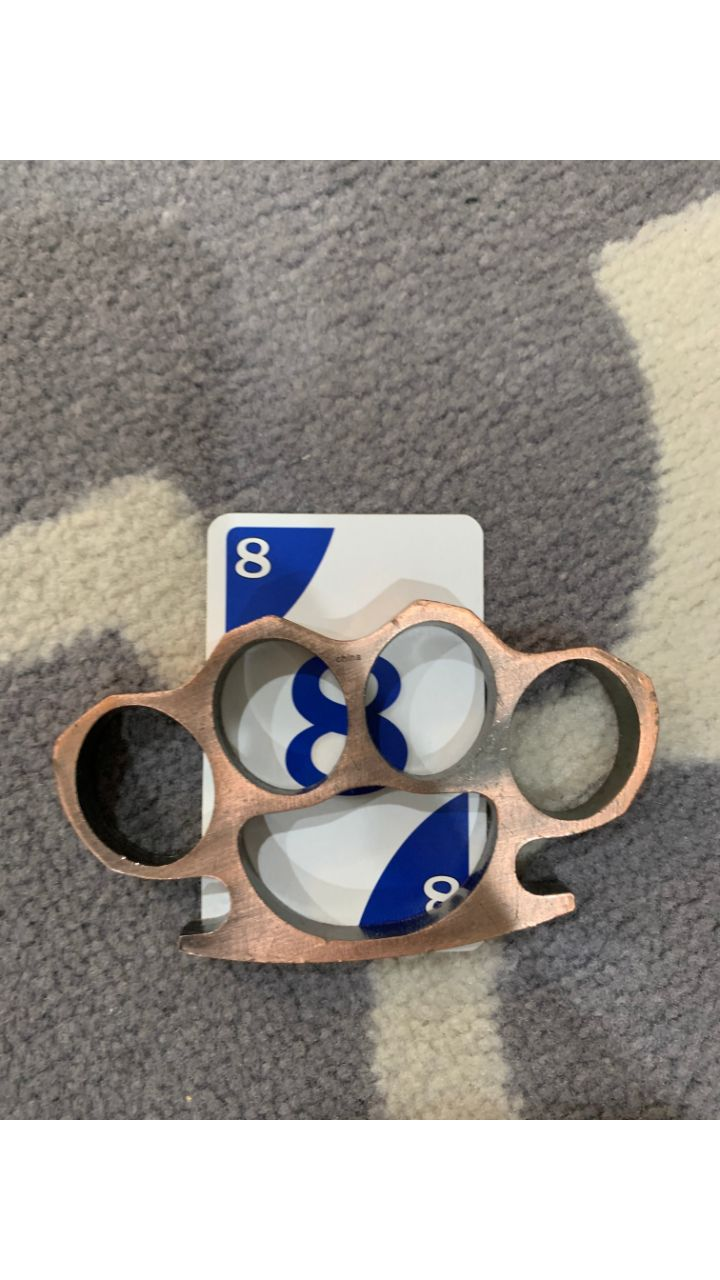eight: (199, 507, 497, 963)
